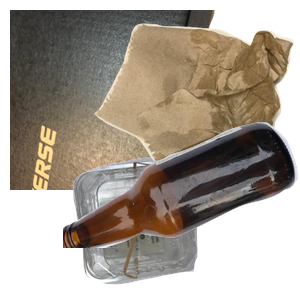cardboard: (10, 10, 217, 190)
glass: (63, 120, 300, 300)
plastic: (71, 154, 300, 300)
trash: (92, 21, 300, 201)
